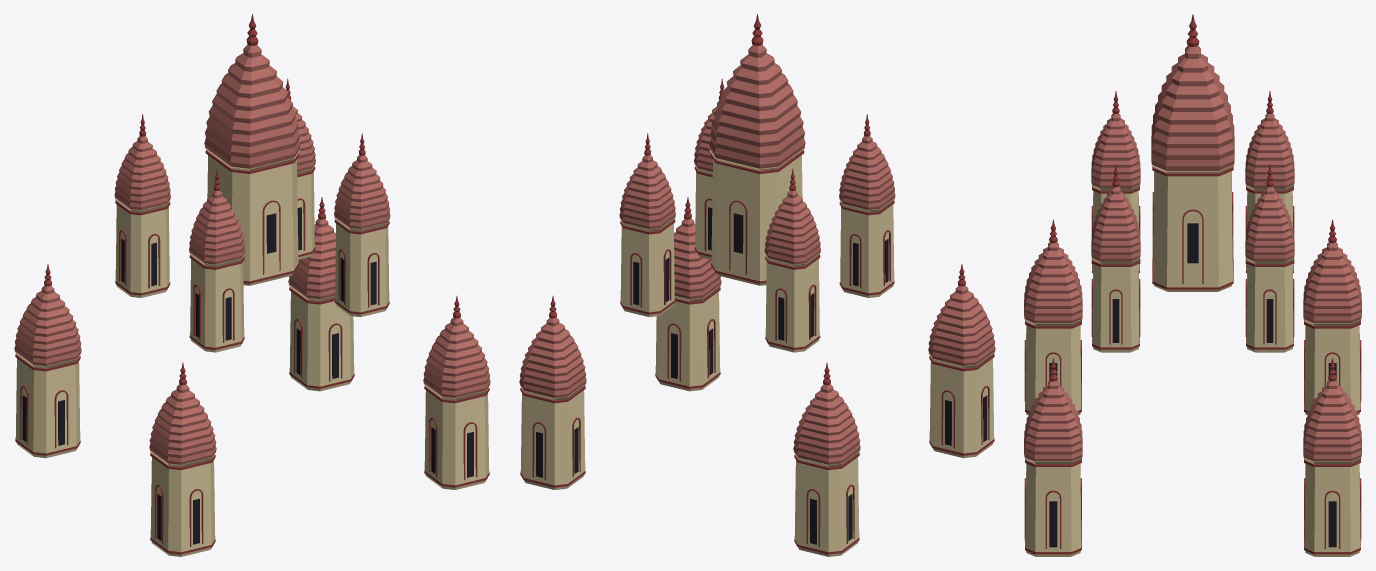
Rendered from KOL_T1_DAKSHINESHWAR__06_Nine_Spires.fbx.
The picture shows the model from 3 angles, left to right: view 1: azimuth 30°, elevation 25°; view 2: azimuth 150°, elevation 25°; view 3: azimuth 270°, elevation 25°; orthographic projection. The views are drawn at different scales.
Parts seen in each view (by area): view 1: KOL_T1_DAKSHINESHWAR__06_Nine_Spires__KOL_T1_TempleCream, KOL_T1_DAKSHINESHWAR__06_Nine_Spires__KOL_T1_TempleRoof, KOL_T1_DAKSHINESHWAR__06_Nine_Spires__KOL_T1_TempleRed, KOL_T1_DAKSHINESHWAR__06_Nine_Spires__KOL_T1_TempleDark; view 2: KOL_T1_DAKSHINESHWAR__06_Nine_Spires__KOL_T1_TempleCream, KOL_T1_DAKSHINESHWAR__06_Nine_Spires__KOL_T1_TempleRoof, KOL_T1_DAKSHINESHWAR__06_Nine_Spires__KOL_T1_TempleRed, KOL_T1_DAKSHINESHWAR__06_Nine_Spires__KOL_T1_TempleDark; view 3: KOL_T1_DAKSHINESHWAR__06_Nine_Spires__KOL_T1_TempleCream, KOL_T1_DAKSHINESHWAR__06_Nine_Spires__KOL_T1_TempleRoof, KOL_T1_DAKSHINESHWAR__06_Nine_Spires__KOL_T1_TempleRed, KOL_T1_DAKSHINESHWAR__06_Nine_Spires__KOL_T1_TempleDark.
Part boxes in pixels (left/top/right/bottom): KOL_T1_DAKSHINESHWAR__06_Nine_Spires__KOL_T1_TempleCream: left=14, top=147, right=489, bottom=556; KOL_T1_DAKSHINESHWAR__06_Nine_Spires__KOL_T1_TempleRoof: left=14, top=45, right=490, bottom=464; KOL_T1_DAKSHINESHWAR__06_Nine_Spires__KOL_T1_TempleRed: left=15, top=14, right=489, bottom=554; KOL_T1_DAKSHINESHWAR__06_Nine_Spires__KOL_T1_TempleDark: left=22, top=207, right=473, bottom=544; KOL_T1_DAKSHINESHWAR__06_Nine_Spires__KOL_T1_TempleCream: left=520, top=147, right=995, bottom=556; KOL_T1_DAKSHINESHWAR__06_Nine_Spires__KOL_T1_TempleRoof: left=519, top=45, right=995, bottom=464; KOL_T1_DAKSHINESHWAR__06_Nine_Spires__KOL_T1_TempleRed: left=520, top=14, right=994, bottom=554; KOL_T1_DAKSHINESHWAR__06_Nine_Spires__KOL_T1_TempleDark: left=536, top=207, right=987, bottom=544; KOL_T1_DAKSHINESHWAR__06_Nine_Spires__KOL_T1_TempleCream: left=1024, top=162, right=1361, bottom=556; KOL_T1_DAKSHINESHWAR__06_Nine_Spires__KOL_T1_TempleRoof: left=1024, top=46, right=1361, bottom=461; KOL_T1_DAKSHINESHWAR__06_Nine_Spires__KOL_T1_TempleRed: left=1024, top=14, right=1361, bottom=554; KOL_T1_DAKSHINESHWAR__06_Nine_Spires__KOL_T1_TempleDark: left=1049, top=223, right=1336, bottom=547.
Size of the model in its own units: 80.17 by 106 by 70.17.
